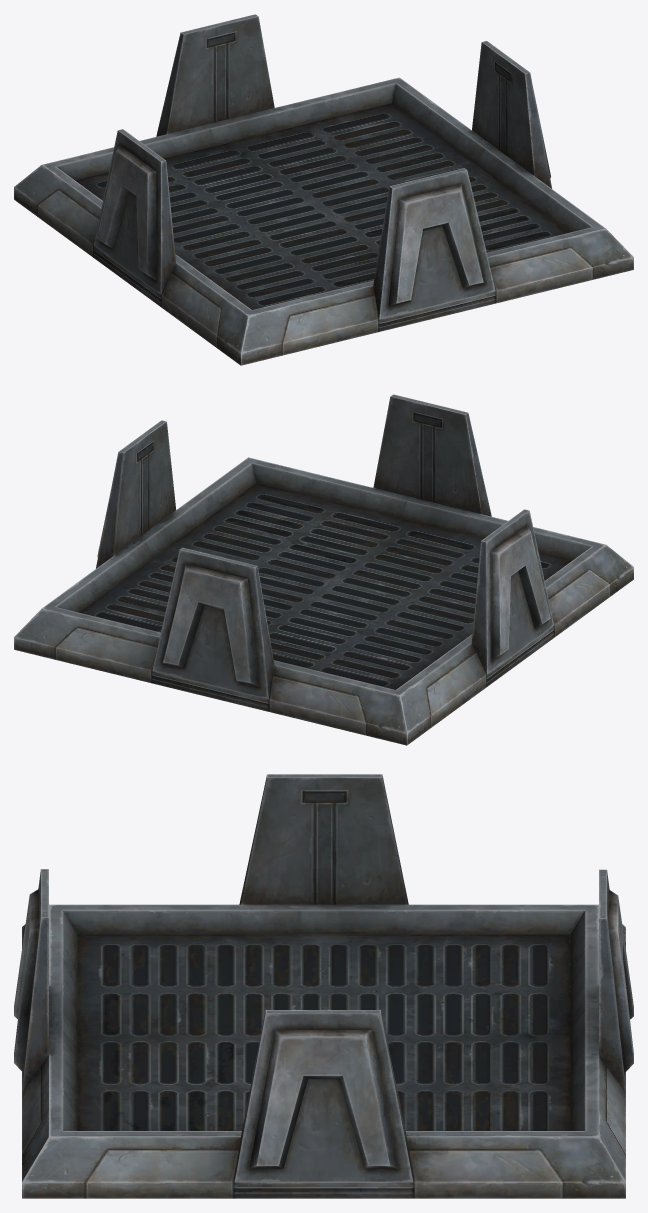
Rendered from kor_vodl_item_shipping_pallet.glb.
3 renders of one model, top to bottom at view 1: azimuth 30°, elevation 25°; view 2: azimuth 150°, elevation 25°; view 3: azimuth 270°, elevation 25°, orthographic. The views are drawn at different scales.
Parts seen in each view (by area): view 1: kor_vodl_item_shipping_pallet; view 2: kor_vodl_item_shipping_pallet; view 3: kor_vodl_item_shipping_pallet.
Boxes of the visible parts, bbox=[...] form: kor_vodl_item_shipping_pallet: bbox=[14, 14, 633, 365]; kor_vodl_item_shipping_pallet: bbox=[14, 394, 633, 745]; kor_vodl_item_shipping_pallet: bbox=[14, 774, 633, 1198].
Size of the model in its own units: 0.4748 by 0.1499 by 0.4748.
1 material, 1 textured.
